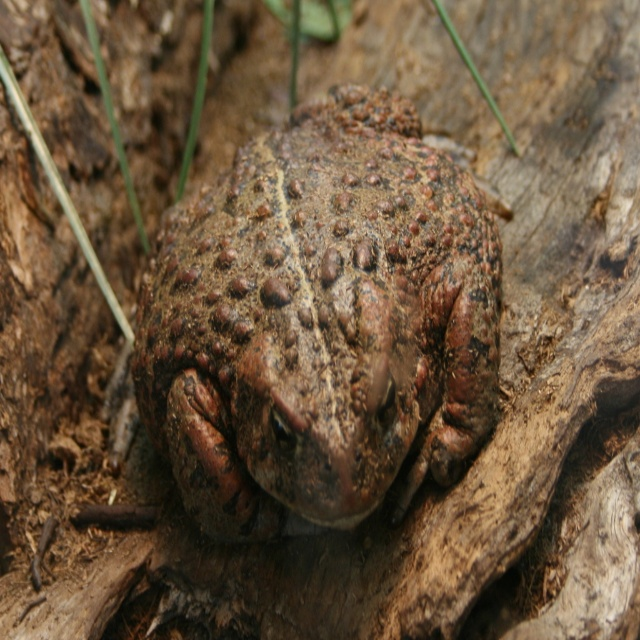Frog: (132, 79, 515, 547)
